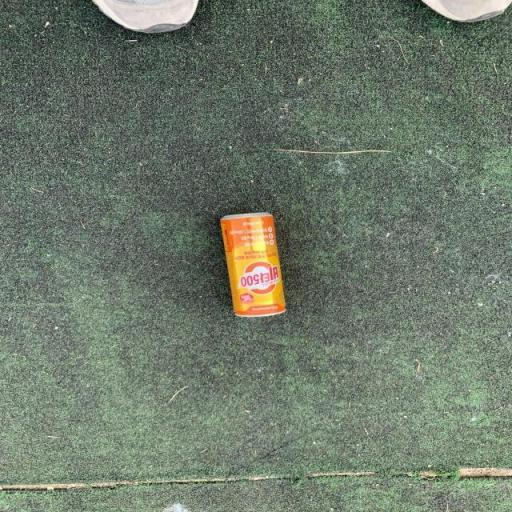metal: (208, 195, 296, 339)
